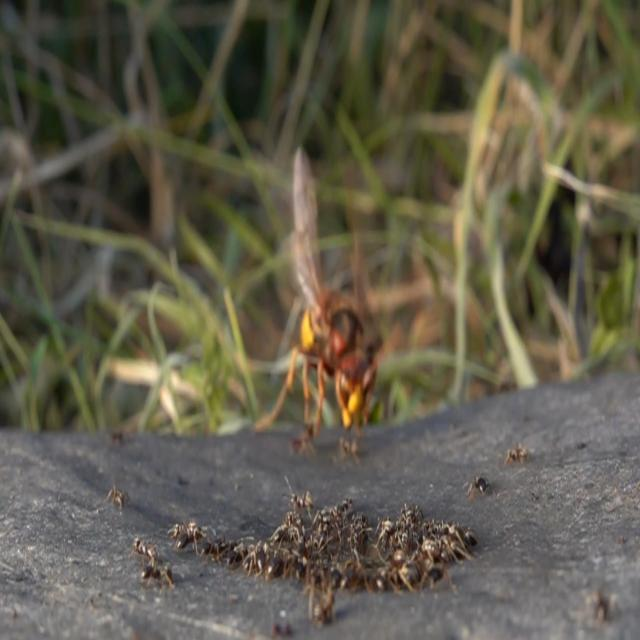Hornets: (253, 140, 384, 460)
